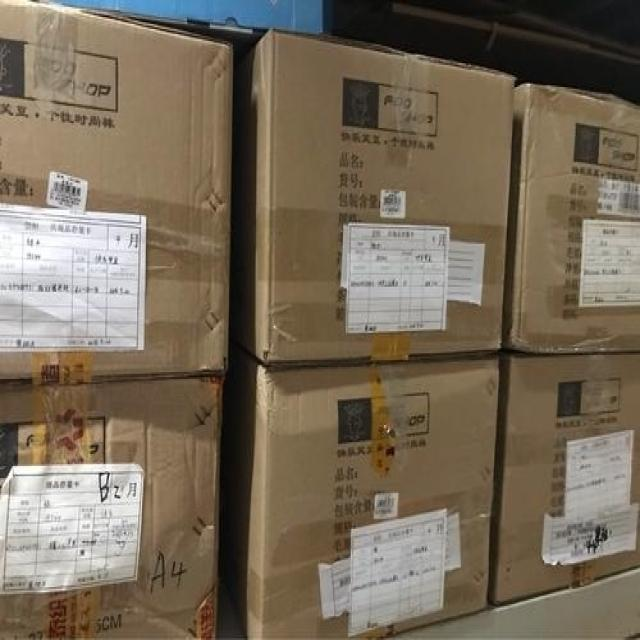box: (229, 29, 515, 367), (0, 0, 234, 381), (219, 335, 500, 640), (0, 374, 223, 640), (490, 353, 640, 609), (502, 84, 640, 355), (40, 0, 321, 34)
